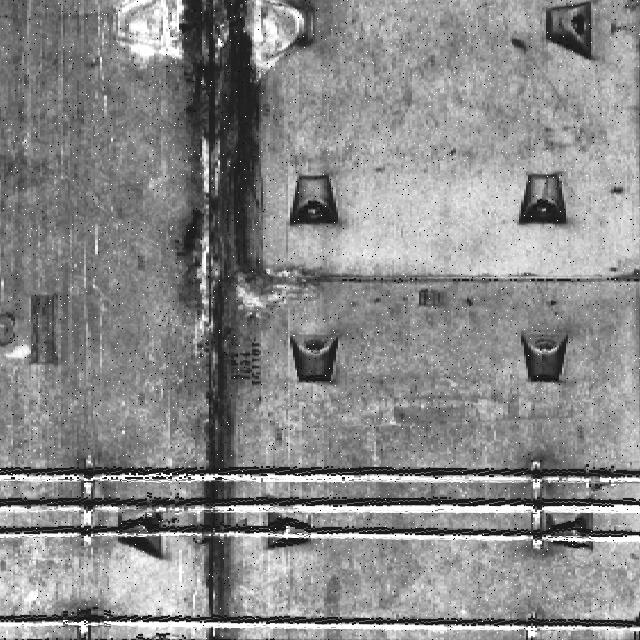leakage: (168, 0, 271, 634)
